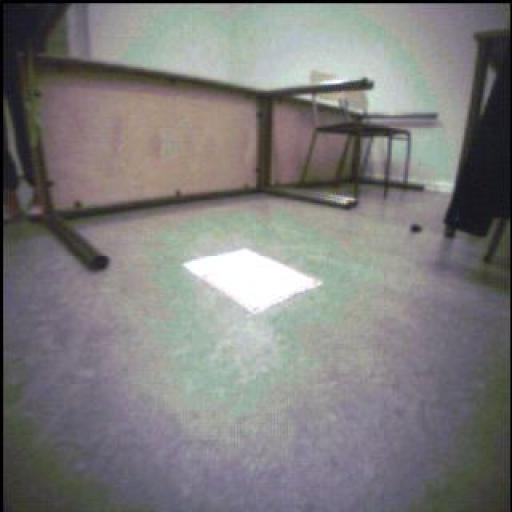Pad: (185, 249, 323, 315)
